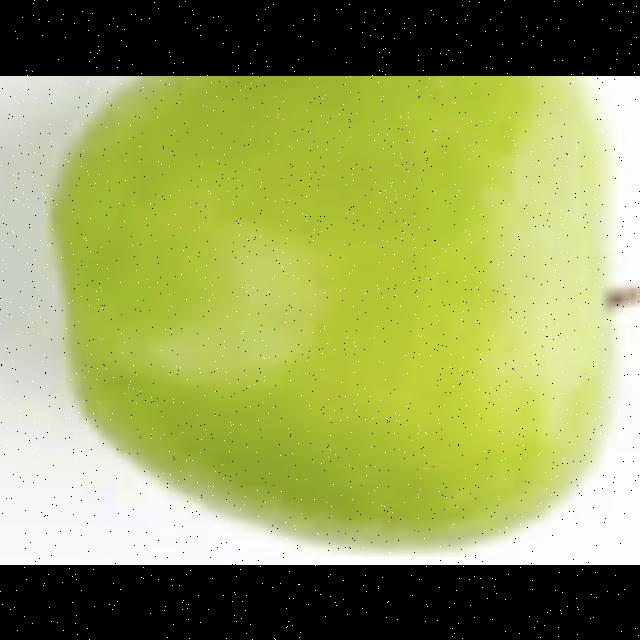Apel Segar: (43, 75, 635, 555)
